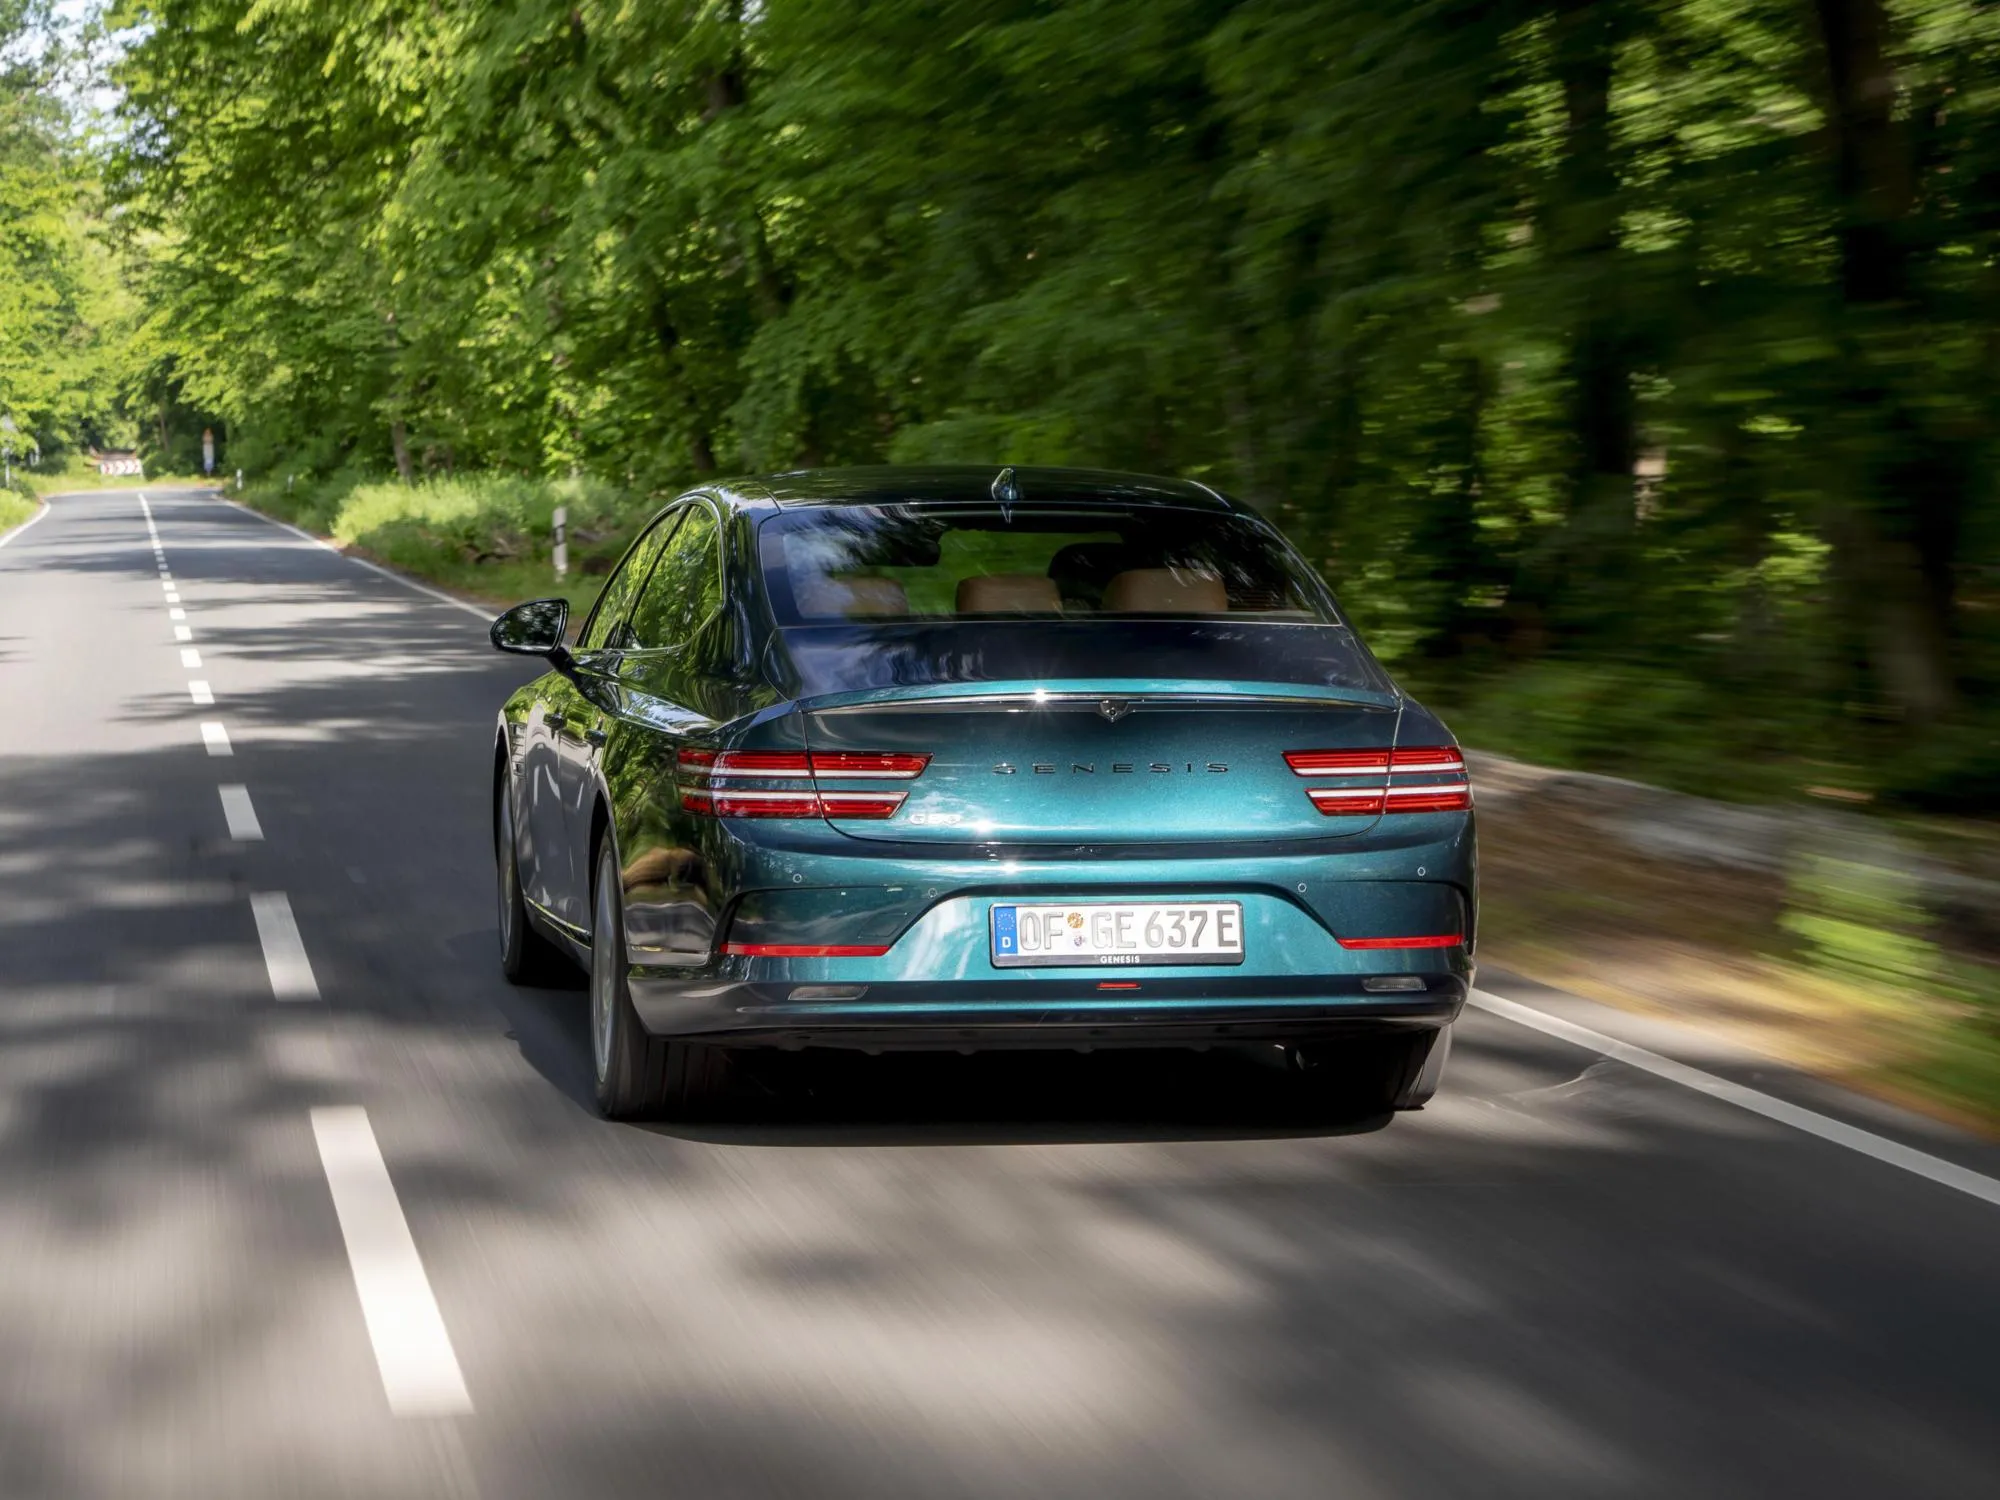car: (472, 459, 1488, 1136)
